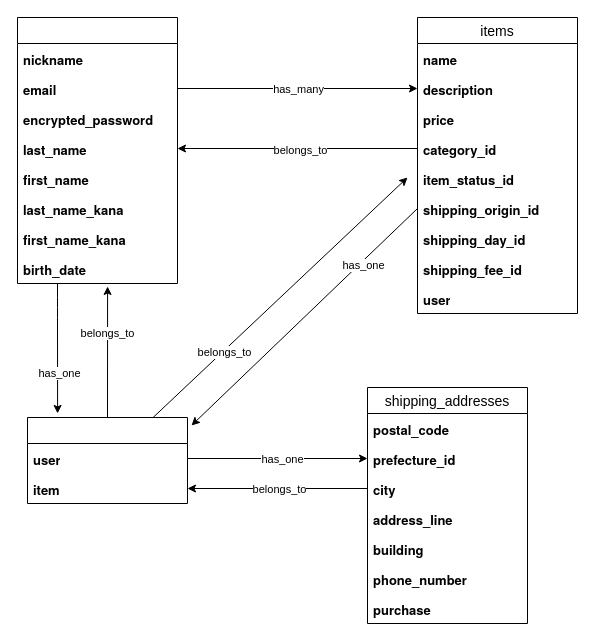
Image size: 595x644. Some labels were removed from this diagram. Each missing label, with the box of its shape:
purchases: (26, 416, 188, 504)
users: (16, 16, 178, 284)
